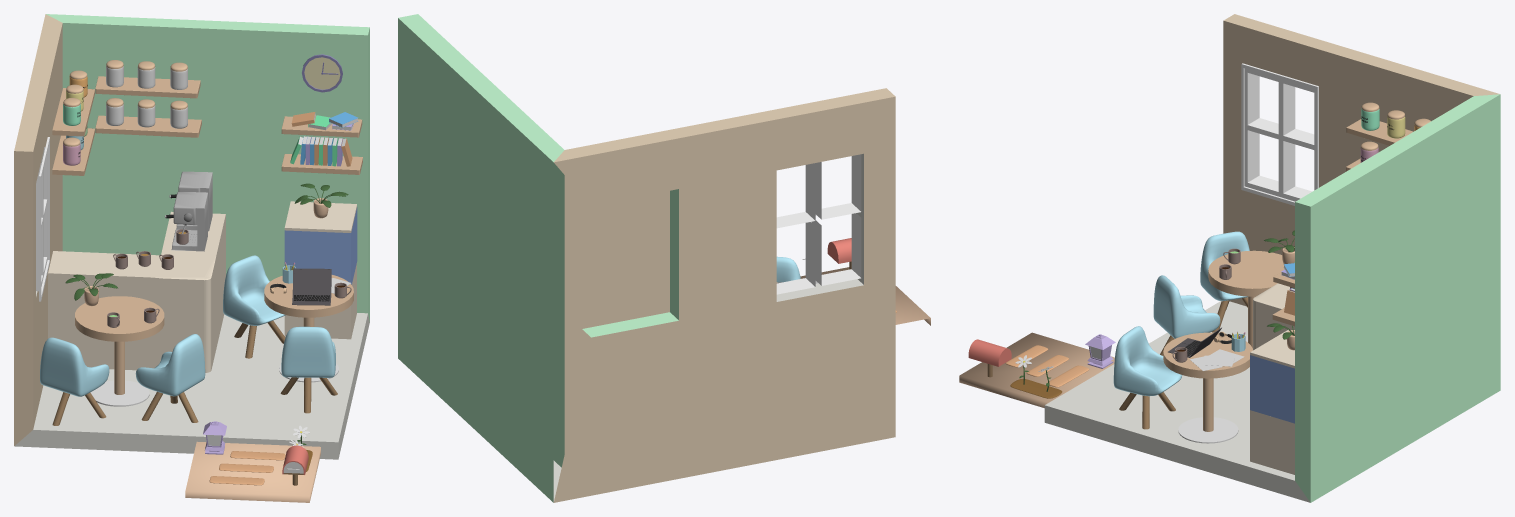
File: cafe.glb
3 views of the same model, side by side, from view 1: azimuth 30°, elevation 25°; view 2: azimuth 150°, elevation 25°; view 3: azimuth 270°, elevation 25° (orthographic). The views are drawn at different scales.
Parts seen in each view (by area): view 1: roomcube, order place, roomcube.001, Circle, Cube.010, Cube.007, Cube.004, Cube.009, Cube.018, tank, Circle.002, Plane.010 (+27 smaller); view 2: roomcube, Plane.010, roomcube.001; view 3: roomcube, Plane.010, roomcube.001, Circle.002, Cube.009, Cube.018, Circle, Cube.007, tank, Cube.004, order place, Cylinder.030 (+2 smaller).
Part boxes in pixels (<box>): roomcube: <box>14,14,369,459</box>; order place: <box>48,211,225,372</box>; roomcube.001: <box>185,441,320,502</box>; Circle: <box>75,296,164,406</box>; Cube.010: <box>223,255,285,358</box>; Cube.007: <box>135,334,205,422</box>; Cube.004: <box>40,337,109,425</box>; Cube.009: <box>280,326,337,413</box>; Cube.018: <box>284,201,356,339</box>; tank: <box>284,207,357,284</box>; Circle.002: <box>264,275,353,382</box>; Plane.010: <box>36,137,49,301</box>; roomcube: <box>398,14,895,502</box>; Plane.010: <box>776,154,861,294</box>; roomcube.001: <box>800,267,930,325</box>; roomcube: <box>1044,14,1500,502</box>; Plane.010: <box>1241,63,1318,205</box>; roomcube.001: <box>959,332,1114,407</box>; Circle.002: <box>1163,332,1252,443</box>; Cube.009: <box>1113,326,1182,429</box>; Cube.018: <box>1250,329,1294,474</box>; Circle: <box>1208,250,1284,348</box>; Cube.007: <box>1153,275,1220,355</box>; tank: <box>1250,355,1294,423</box>; Cube.004: <box>1200,231,1249,332</box>; order place: <box>1253,283,1294,350</box>; Cylinder.030: <box>968,339,1011,366</box>.
Bounding box in the file's own units: 14.41 × 10.33 × 17.11.
